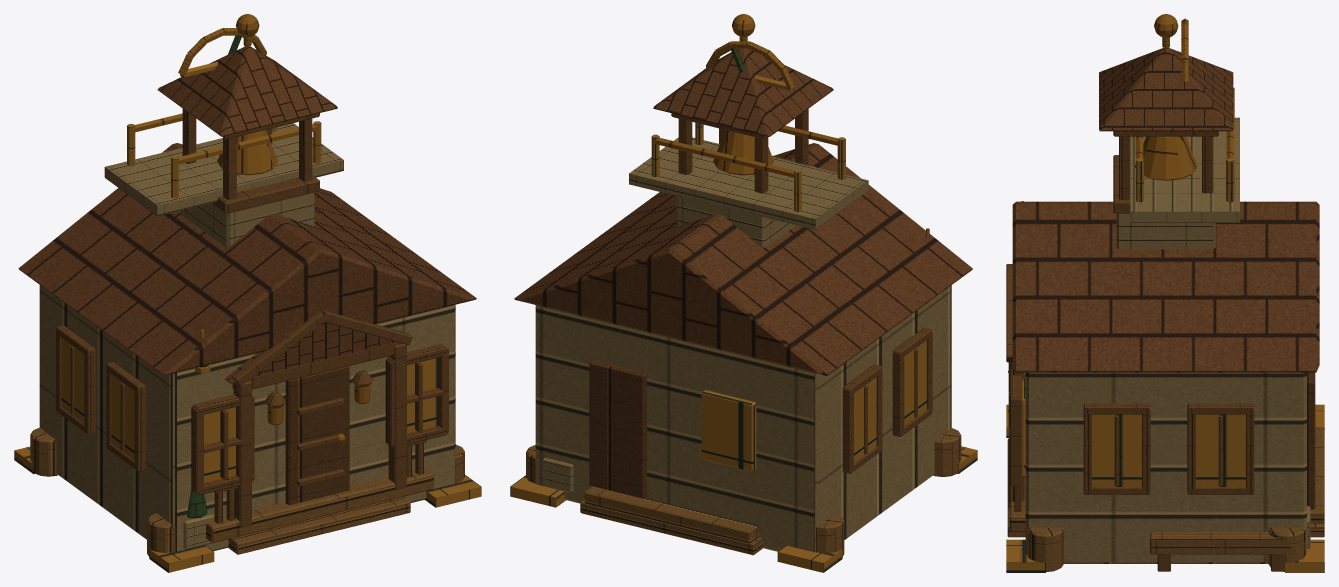
Rendered from schoolhouse.e5.glb.
3 views of the same model, side by side, from view 1: azimuth 30°, elevation 25°; view 2: azimuth 150°, elevation 25°; view 3: azimuth 270°, elevation 25° (orthographic). The views are drawn at different scales.
Parts seen in each view (by area): view 1: SchoolhouseE5; view 2: SchoolhouseE5; view 3: SchoolhouseE5.
Boxes of the visible parts, bbox=[...] form: SchoolhouseE5: bbox=[14, 14, 481, 572]; SchoolhouseE5: bbox=[510, 14, 977, 572]; SchoolhouseE5: bbox=[1006, 14, 1324, 572].
Size of the model in its own units: 3.96 by 5.6 by 3.38.
Materials: 1 (1 with a texture image).
